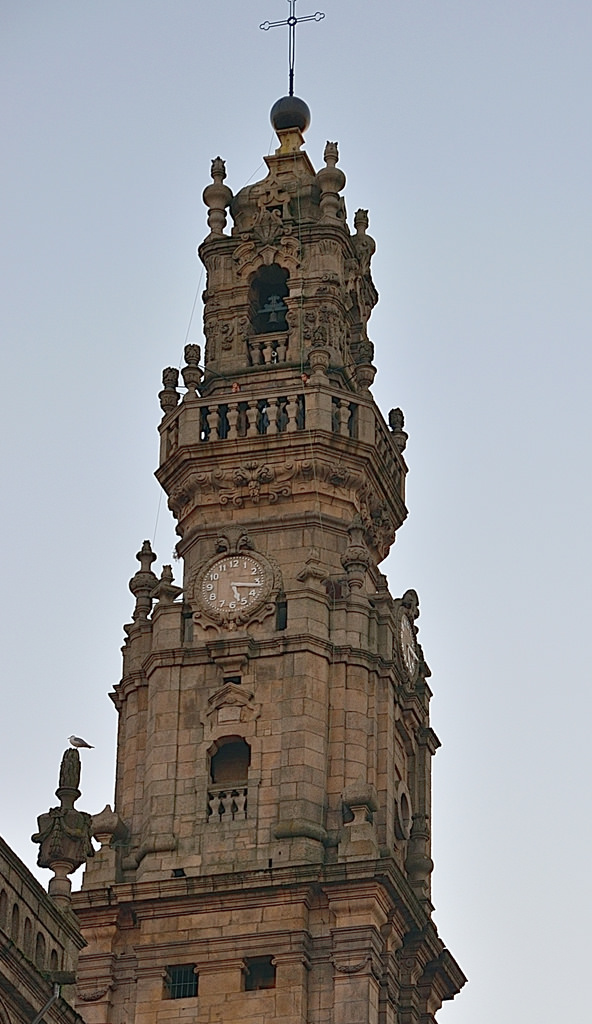clerigos: (31, 0, 470, 1023)
